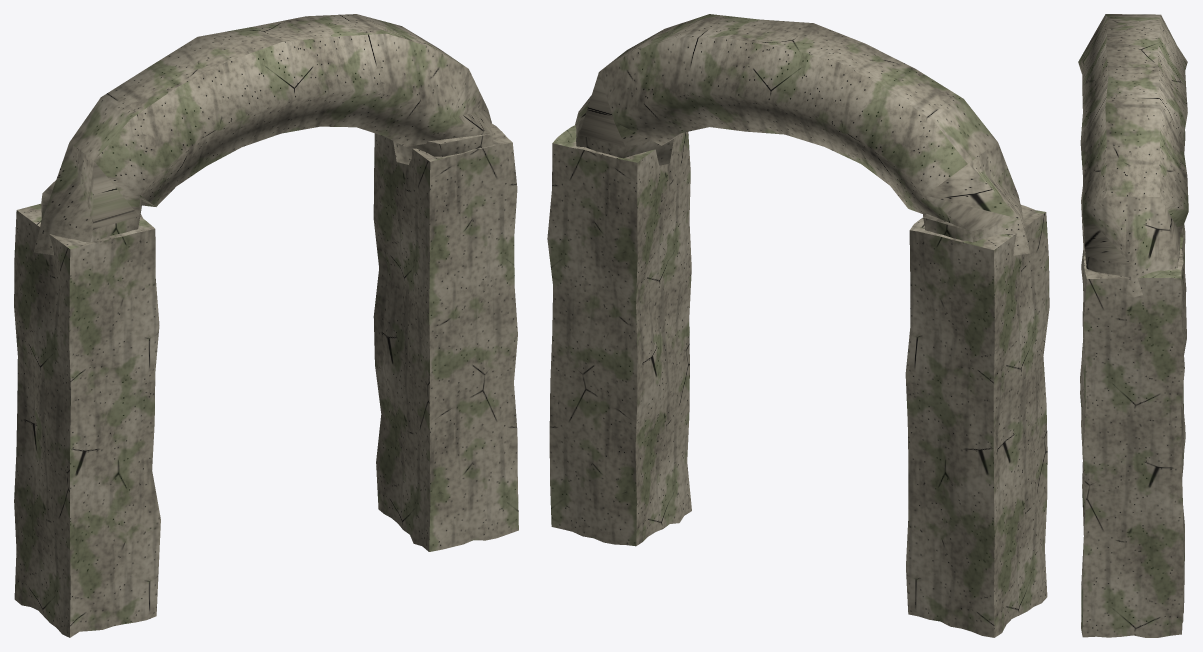
The model's file is ENV_Storm_Arch.fbx.
3 renders of one model, left to right at view 1: azimuth 30°, elevation 25°; view 2: azimuth 150°, elevation 25°; view 3: azimuth 270°, elevation 25°, orthographic. The views are drawn at different scales.
Parts seen in each view (by area): view 1: ENV_Storm_Arch; view 2: ENV_Storm_Arch; view 3: ENV_Storm_Arch.
Boxes of the visible parts, bbox=[...] form: ENV_Storm_Arch: bbox=[14, 14, 518, 637]; ENV_Storm_Arch: bbox=[547, 14, 1049, 637]; ENV_Storm_Arch: bbox=[1078, 14, 1188, 637].
Size of the model in its own units: 1.59 by 1.77 by 0.3589.
